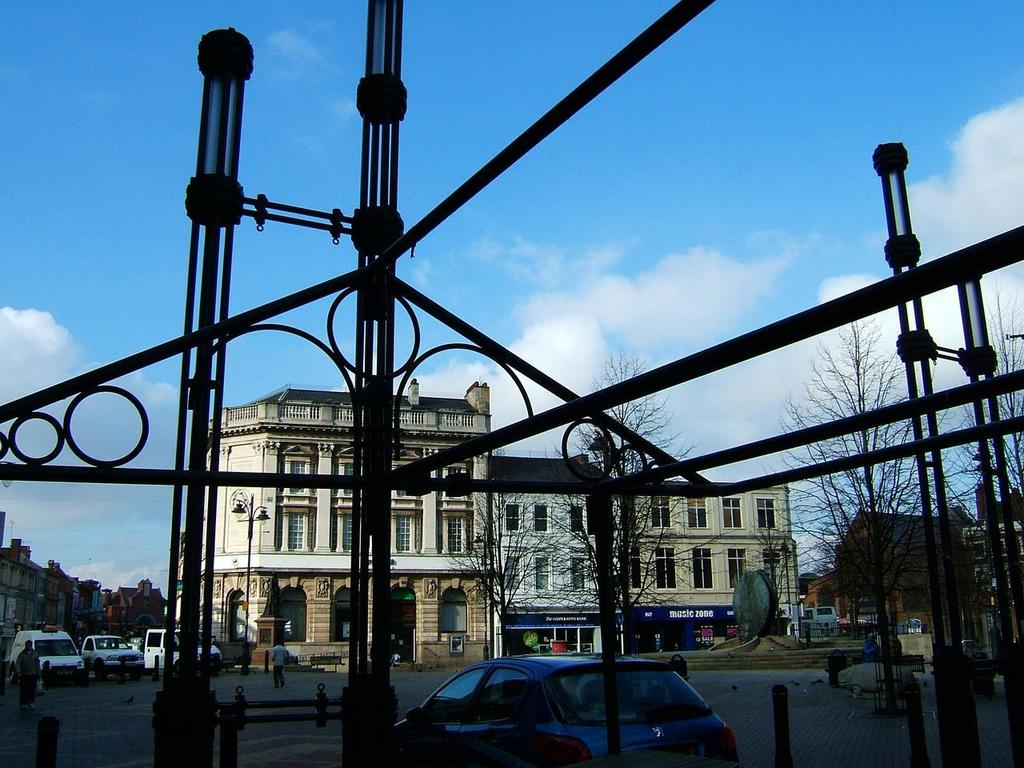Car: (388, 648, 740, 763), (83, 627, 144, 683)
